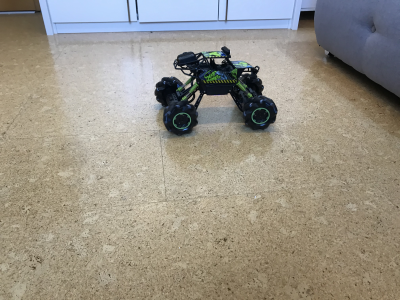remote control car: (152, 45, 280, 136)
